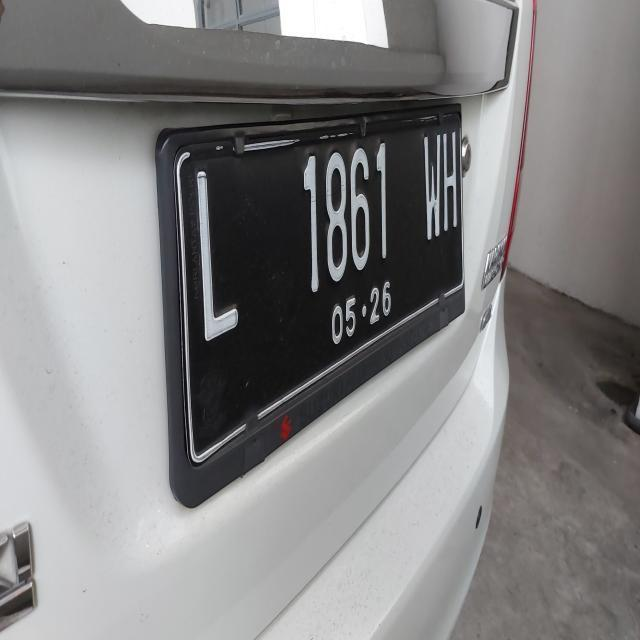1: (298, 146, 322, 297), (373, 140, 390, 268)
6: (352, 143, 374, 274)
8: (323, 146, 351, 293)
H: (441, 129, 458, 235)
L: (186, 164, 246, 355)
W: (421, 131, 441, 244)
